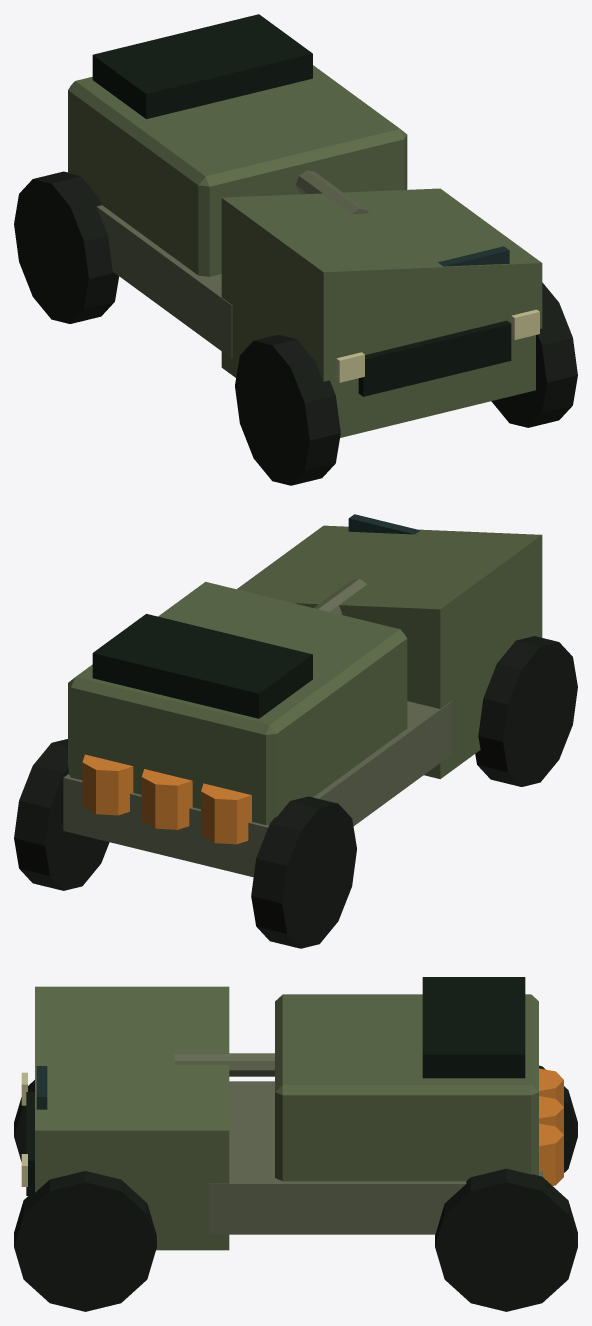
The model's file is minelayer.obj.
The picture shows the model from 3 angles, top to bottom: view 1: azimuth 30°, elevation 25°; view 2: azimuth 150°, elevation 25°; view 3: azimuth 270°, elevation 25°; orthographic projection. The views are drawn at different scales.
Visible parts, largest first — view 1: Body.007, Wheel_00.004, Wheel_02.003, Wheel_01.004, WeaponPitch.001; view 2: Body.007, Wheel_02.003, Wheel_00.004, Wheel_03.003, WeaponPitch.001; view 3: Body.007, Wheel_03.003, Wheel_01.004, WeaponPitch.001, Wheel_02.003, Wheel_00.004.
Boxes of the visible parts, box(x1,y1,x2,y2) form: Body.007: box(68, 14, 542, 437); Wheel_00.004: box(235, 334, 340, 485); Wheel_02.003: box(14, 171, 118, 323); Wheel_01.004: box(491, 282, 577, 427); WeaponPitch.001: box(296, 170, 368, 214); Body.007: box(63, 514, 542, 877); Wheel_02.003: box(251, 796, 356, 948); Wheel_00.004: box(475, 636, 577, 786); Wheel_03.003: box(14, 739, 109, 890); WeaponPitch.001: box(314, 579, 367, 614); Body.007: box(21, 977, 563, 1250); Wheel_03.003: box(435, 1168, 577, 1311); Wheel_01.004: box(14, 1171, 156, 1311); WeaponPitch.001: box(174, 1053, 274, 1076); Wheel_02.003: box(539, 1065, 577, 1172); Wheel_00.004: box(14, 1080, 34, 1161).
Size of the model in its own units: 3.27 by 2.86 by 6.24.
Materials: 1 (1 with a texture image).
